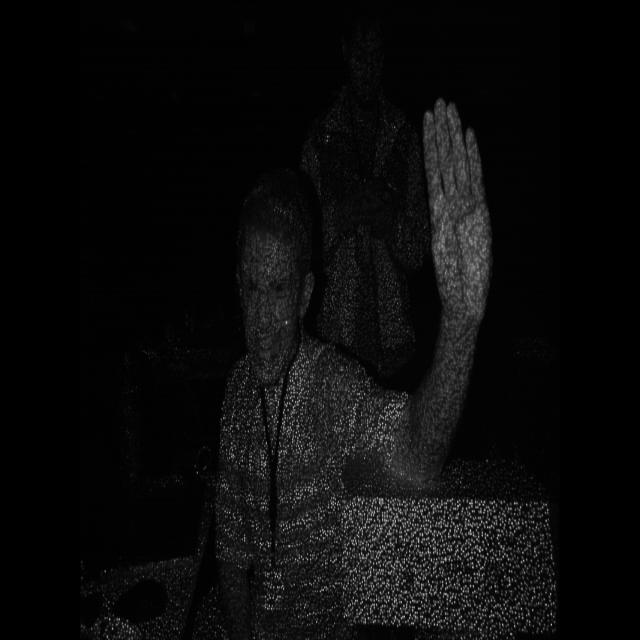B: (416, 93, 534, 340)
